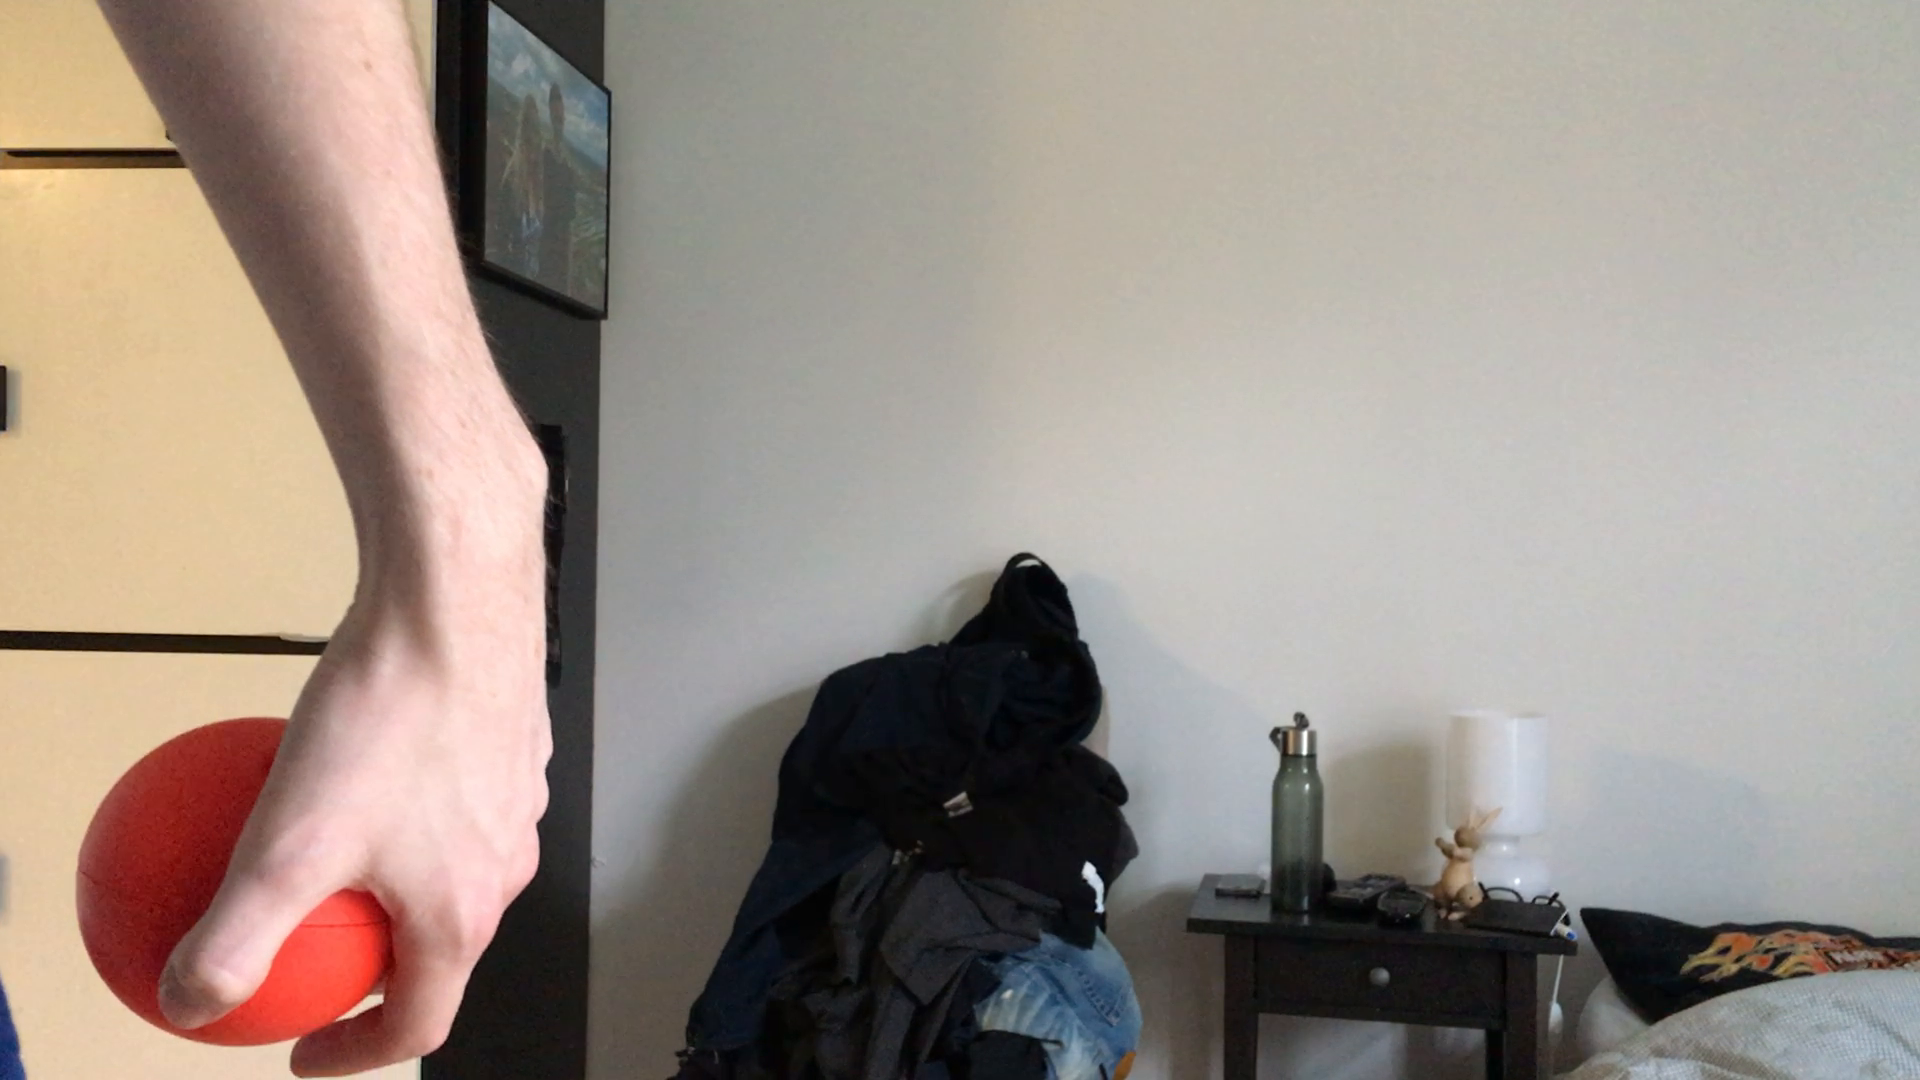Ball: (79, 715, 406, 1048)
